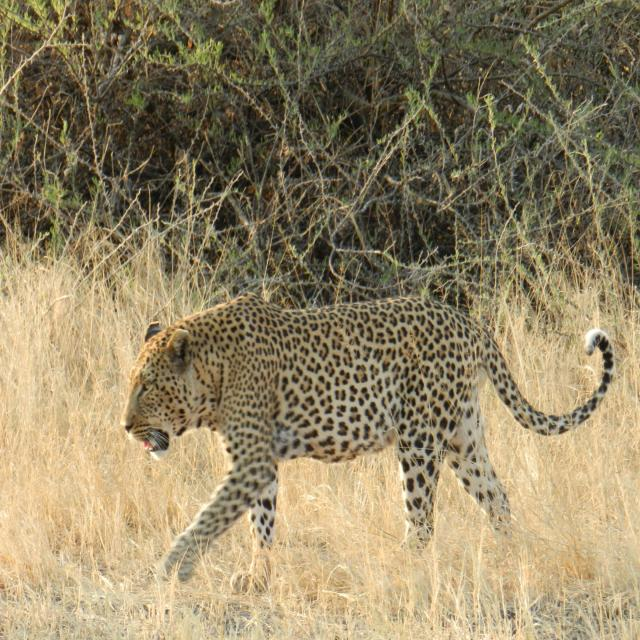Leopard: (132, 276, 600, 587)
